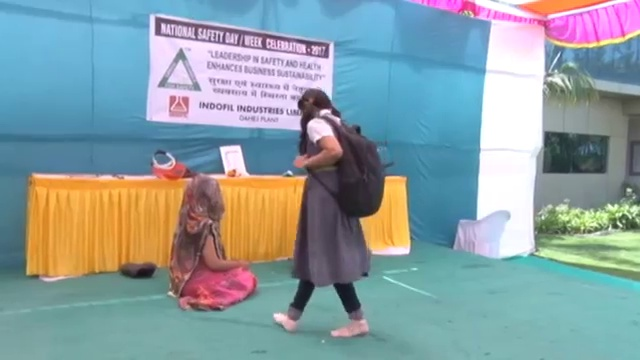helmet_off: (181, 177, 227, 221), (296, 89, 332, 117)
person: (273, 88, 384, 340), (168, 176, 258, 312)
